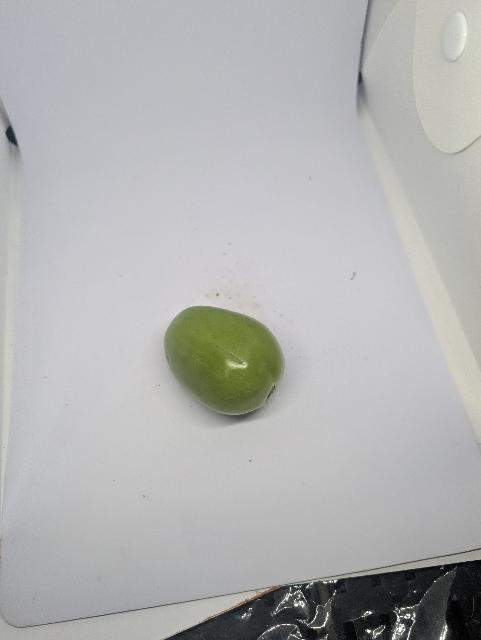green: (155, 294, 300, 427)
